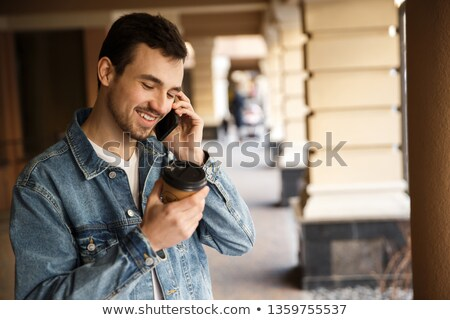phone: (156, 100, 197, 149)
talk: (127, 70, 208, 163)
